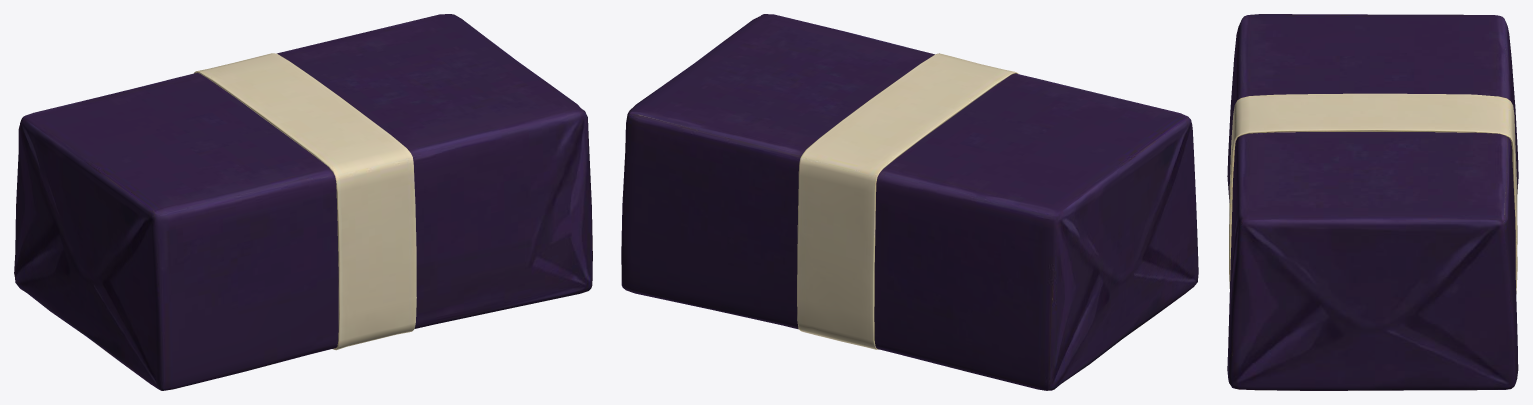
File: contraband.glb
3 views of the same model, side by side, from view 1: azimuth 30°, elevation 25°; view 2: azimuth 150°, elevation 25°; view 3: azimuth 270°, elevation 25° (orthographic). The views are drawn at different scales.
Visible parts, largest first — view 1: contraband; view 2: contraband; view 3: contraband.
Boxes of the visible parts, x1,y1,x2,y2 form: contraband: (14, 14, 592, 390); contraband: (621, 14, 1198, 390); contraband: (1227, 14, 1518, 390).
Size of the model in its own units: 0.22 by 0.0907 by 0.132.
1 material, 1 textured.
